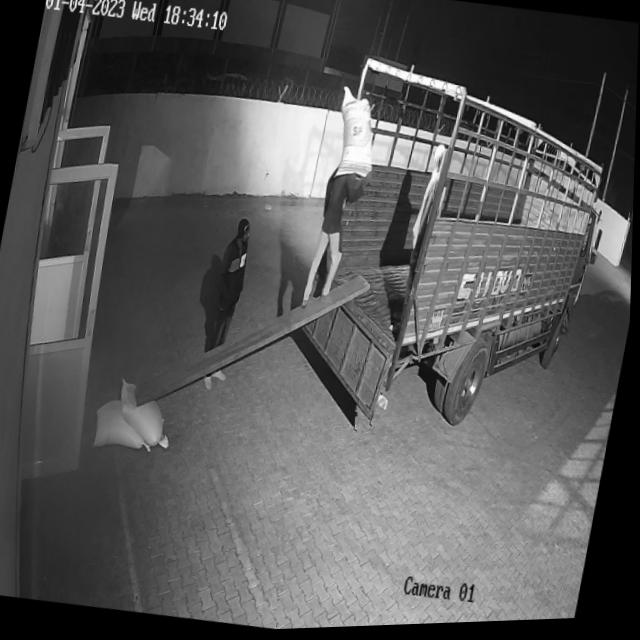sack: (328, 86, 386, 186), (112, 377, 182, 452), (94, 397, 162, 455)
